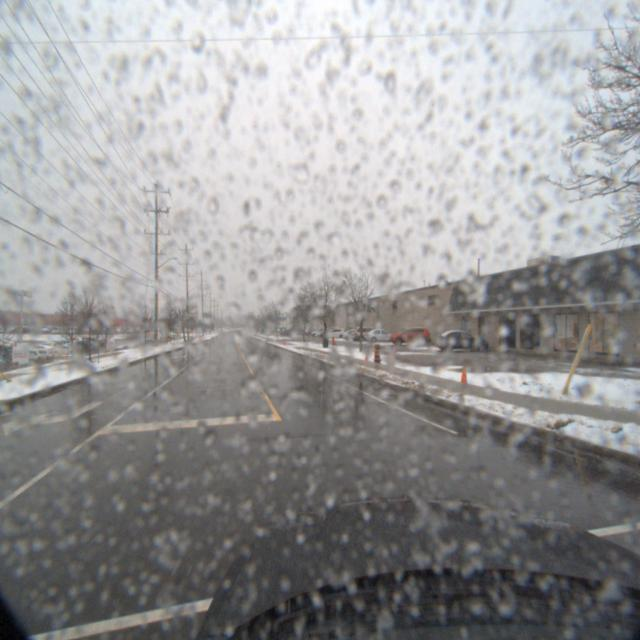Car: (432, 328, 492, 352), (388, 326, 434, 346), (364, 328, 400, 344)
